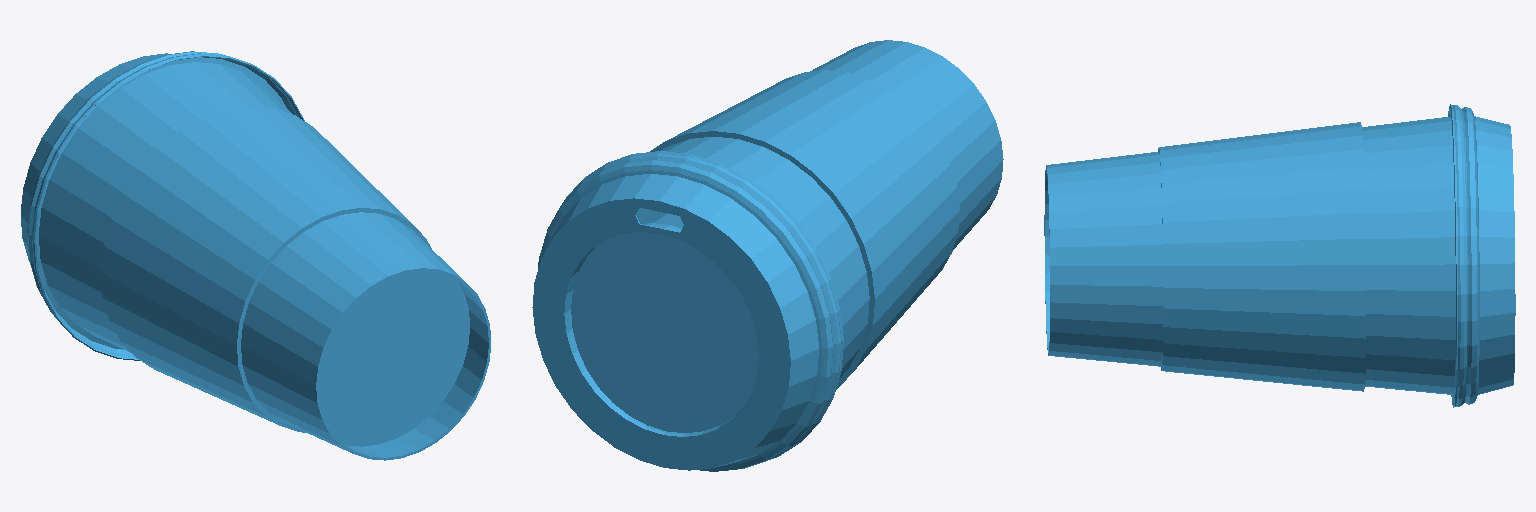
The robot description file, URDF, robot "cup":
<?xml version="0.0" ?>
<!-- <material name="cup_material">
  <texture filename="texture_image.png"/>
</material> -->
<robot name="cup">
	<link name="base"/>
	<joint name="j1" type="fixed">
    <parent link="base"/>
    <child link="cup_1"/>
    <origin xyz="0  0  0" rpy="0 0 0"/>
    <axis xyz="0 0 1"/>
  	</joint>
	<link name="cup_1">
		<inertial>
			<origin rpy="0.00000 -0.00000 0.00000" xyz="0.00000 0.00000 0.00000"/>
			<mass value="0.10000"/>
			<inertia ixx="0.00000" ixy="0" ixz="0" iyy="0.00000" iyz="0" izz="0.00000"/>
		</inertial>
		<visual>
      		<origin rpy="-0.00138374  0.01831255  0.03002321" xyz="0 0 0"/>
      		<geometry>
        		<mesh filename="cup.obj"/>
      		</geometry>
    	</visual>
		<collision>
      		<origin rpy="0 0 0" xyz="0 0 0"/>
      		<geometry>
        		<mesh filename="cup.obj"/>
      		</geometry>
    	</collision>
	</link>
</robot>

--- What the picture shows (computed from the rendered views, not written in the file) ---
Views: 3 orthographic renders of the robot side by side, from view 1: azimuth 30°, elevation 25°; view 2: azimuth 150°, elevation 25°; view 3: azimuth 270°, elevation 25°.
Robot: cup — 2 links, 1 joints (1 fixed); root link base; default pose: every joint at zero.
Links seen in each view (by area): view 1: cup_1; view 2: cup_1; view 3: cup_1.
Link boxes in pixels (x1=…): cup_1: x1=21, y1=51, x2=490, y2=460; cup_1: x1=532, y1=40, x2=1003, y2=471; cup_1: x1=1044, y1=104, x2=1515, y2=407.
Bounding box of the posed robot: 0.7434 × 1.15 × 0.7437 m (x, y, z).
1 mesh visuals loaded from 1 distinct referenced files (1 OBJ).